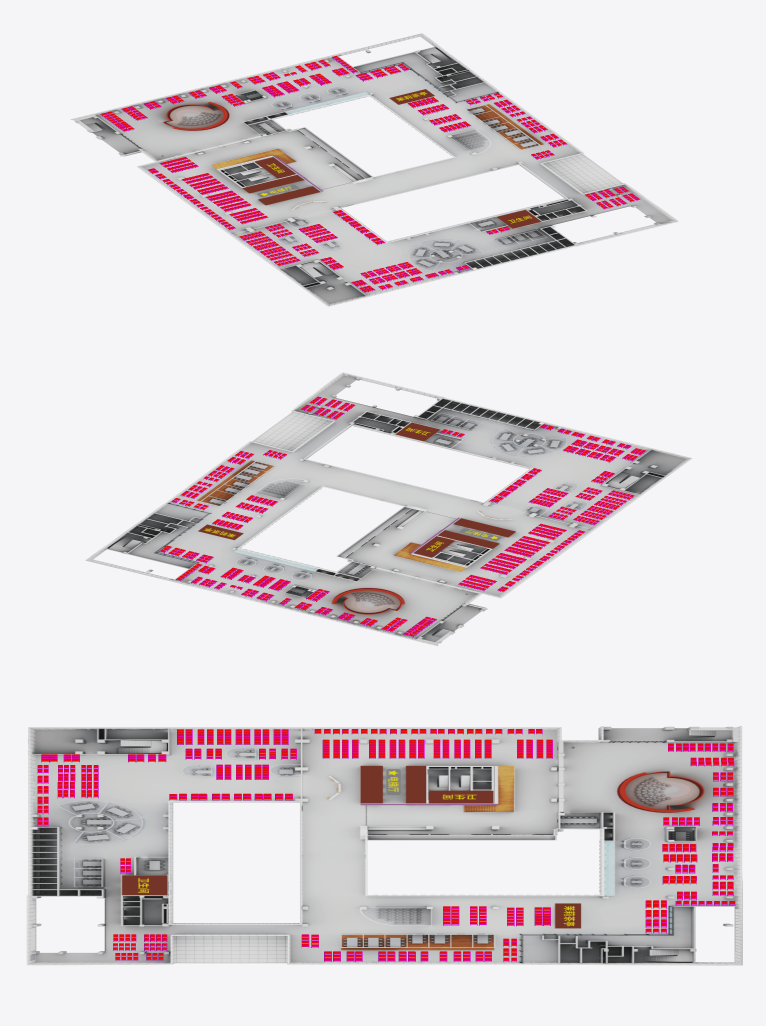
3 renders of one model, top to bottom at view 1: azimuth 30°, elevation 25°; view 2: azimuth 150°, elevation 25°; view 3: azimuth 270°, elevation 25°, orthographic. The views are drawn at different scales.
Parts seen in each view (by area): view 1: 4FPlane003; view 2: 4FPlane003; view 3: 4FPlane003.
Part boxes in pixels (x1=…): 4FPlane003: x1=71, y1=33, x2=678, y2=306; 4FPlane003: x1=85, y1=372, x2=691, y2=645; 4FPlane003: x1=27, y1=726, x2=742, y2=965.
Bounding box in the file's own units: 95.33 × 0.2522 × 92.6.
3 materials, 1 textured.
